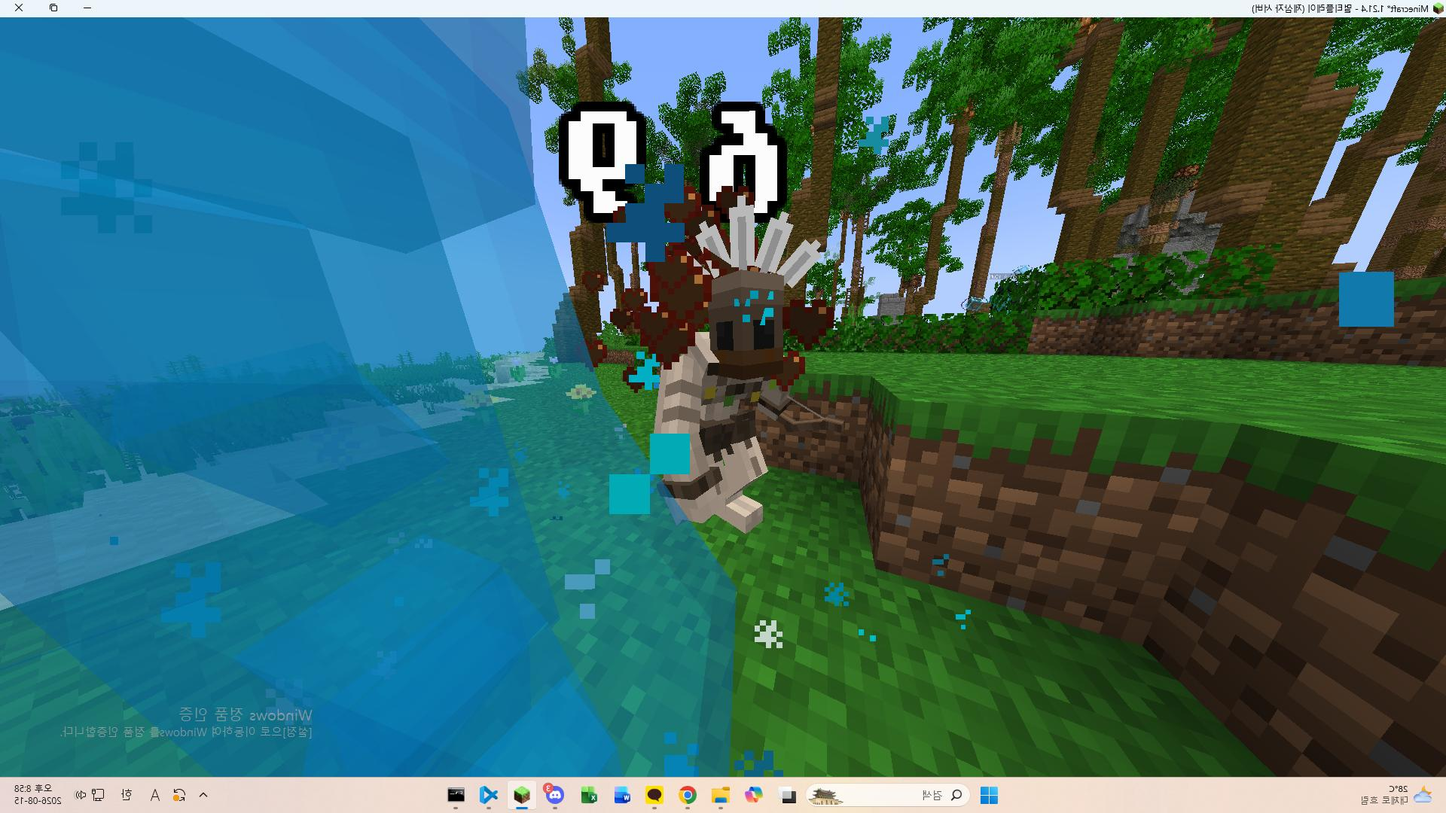bow_indian: (654, 237, 842, 531)
